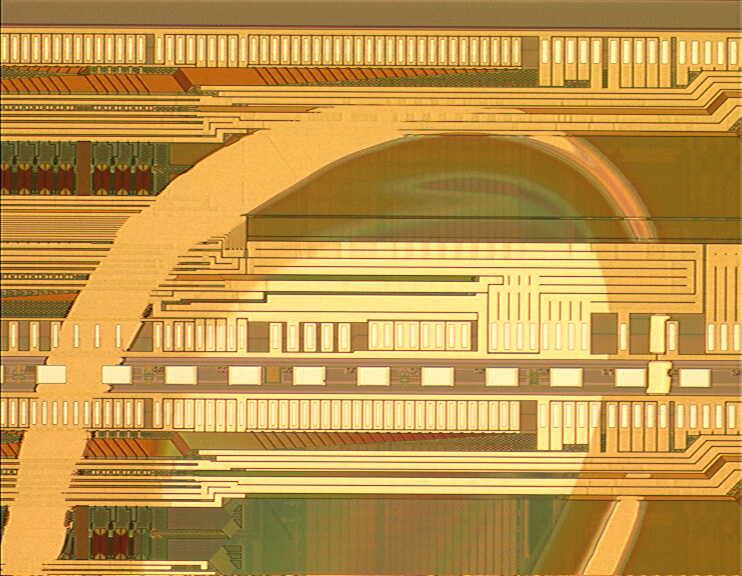COATING BAD: (1, 91, 686, 576)
